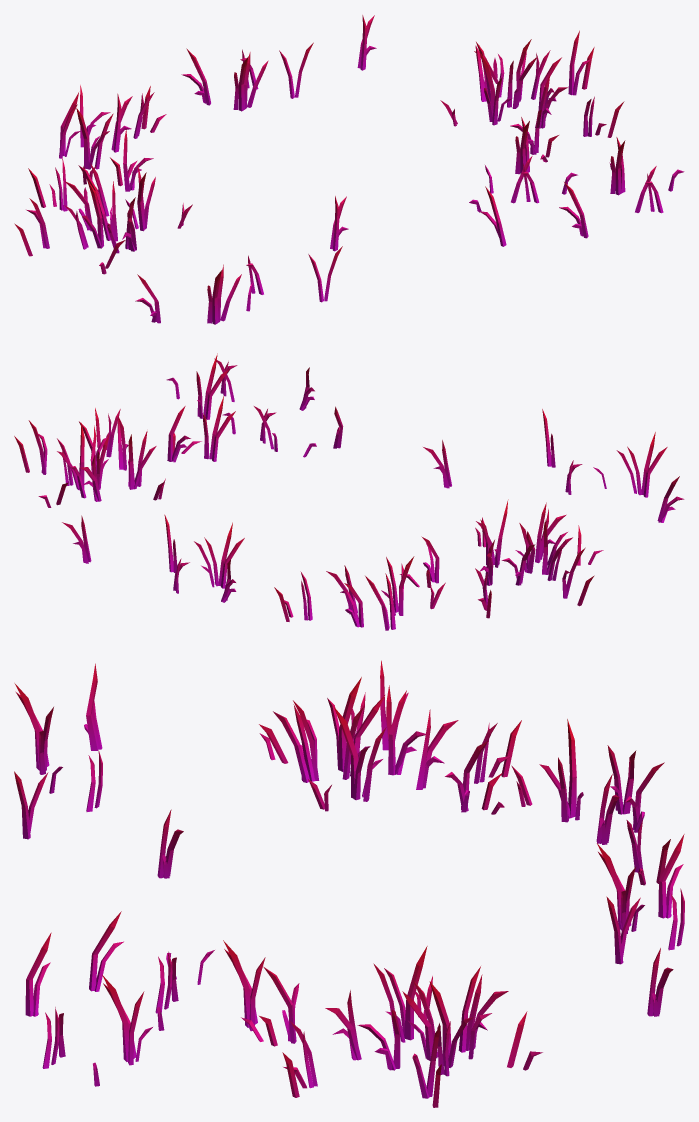
The model's file is SM_Env_Grass_01.fbx.
3 renders of one model, top to bottom at view 1: azimuth 30°, elevation 25°; view 2: azimuth 150°, elevation 25°; view 3: azimuth 270°, elevation 25°, orthographic. The views are drawn at different scales.
Parts seen in each view (by area): view 1: SM_Env_Grass_01; view 2: SM_Env_Grass_01; view 3: SM_Env_Grass_01.
Boxes of the visible parts, box(x1,y1,x2,y2) form: SM_Env_Grass_01: box(14, 15, 684, 324); SM_Env_Grass_01: box(14, 353, 684, 630); SM_Env_Grass_01: box(14, 660, 684, 1107).
Bounding box in the file's own units: 618 × 79.16 × 436.
